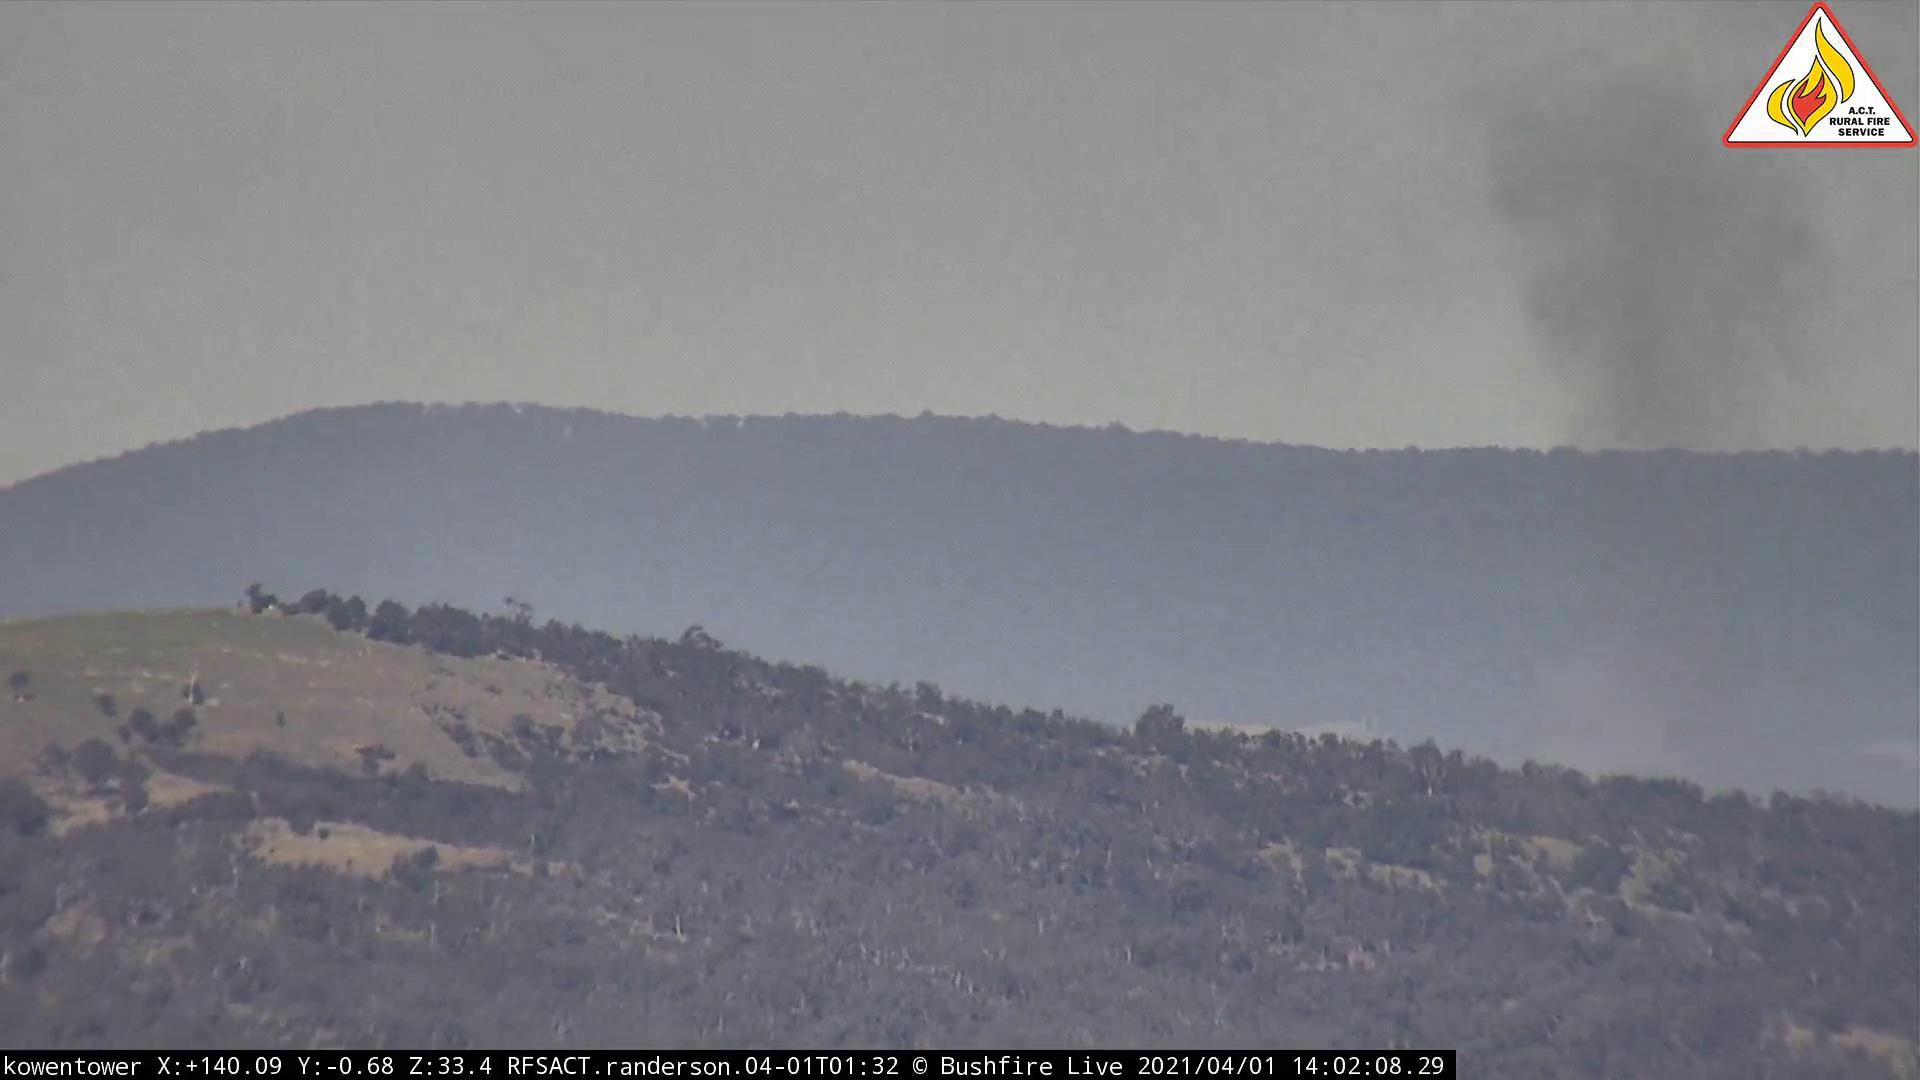Smoke: (1386, 3, 1874, 857)
